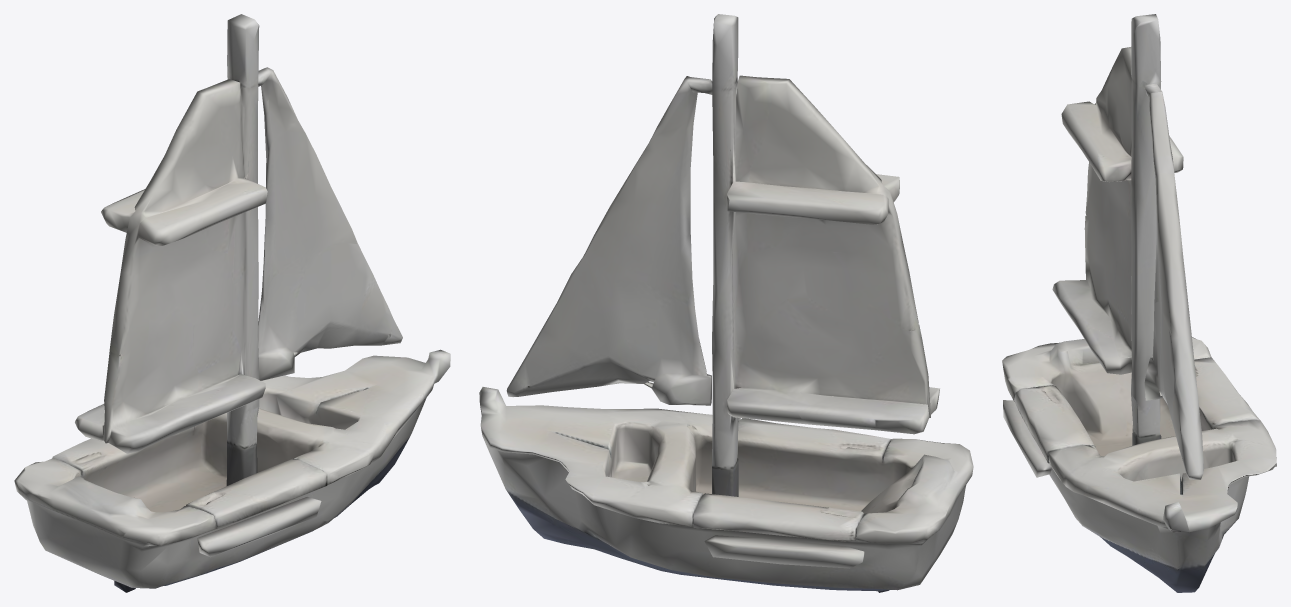
Rendered from sailboat.glb.
3 renders of one model, left to right at view 1: azimuth 30°, elevation 25°; view 2: azimuth 150°, elevation 25°; view 3: azimuth 270°, elevation 25°, orthographic. The views are drawn at different scales.
Visible parts, largest first — view 1: tripo_node_c7724102-51a8-4f21-9176-bb1784d96381; view 2: tripo_node_c7724102-51a8-4f21-9176-bb1784d96381; view 3: tripo_node_c7724102-51a8-4f21-9176-bb1784d96381.
Boxes of the visible parts, <box> form: tripo_node_c7724102-51a8-4f21-9176-bb1784d96381: <box>14,14,450,592</box>; tripo_node_c7724102-51a8-4f21-9176-bb1784d96381: <box>479,14,973,592</box>; tripo_node_c7724102-51a8-4f21-9176-bb1784d96381: <box>1002,14,1276,592</box>.
Bounding box in the file's own units: 0.8563 × 1 × 0.4835.
1 material, 1 textured.
